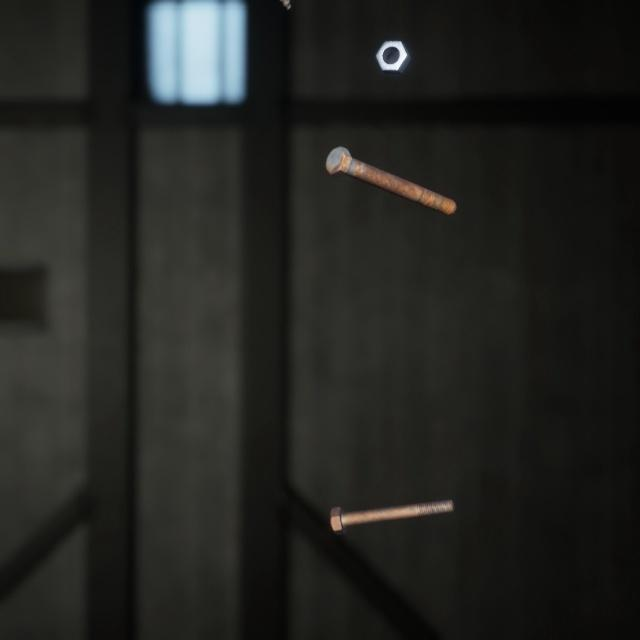bolt: (321, 128, 460, 206), (325, 474, 459, 518)
nut: (371, 27, 415, 69)
